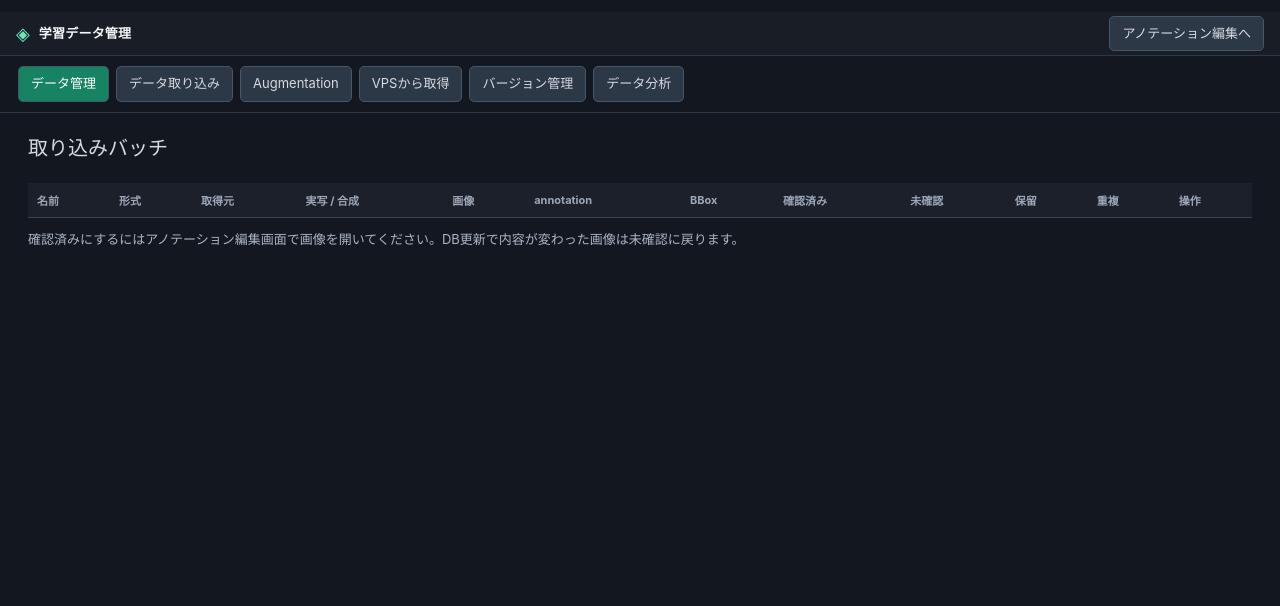
allows a duplicate image but explains an annotation conflict
Click the button "データ取り込み": x=174, y=84 [116,66,233,102]
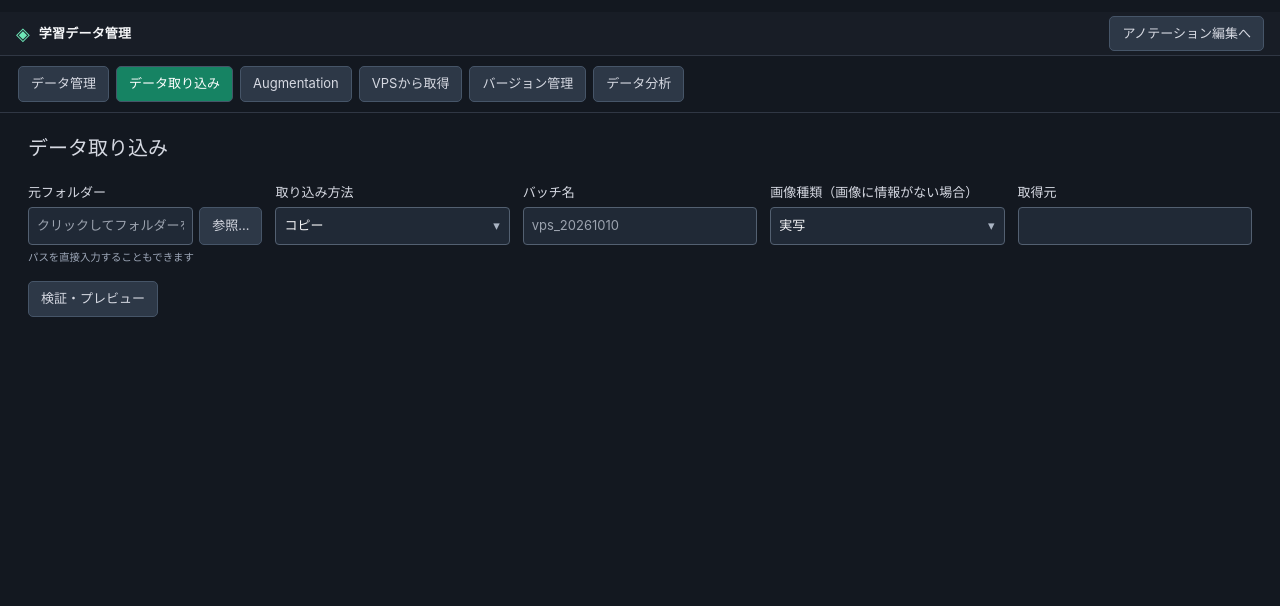
In the field labelled "バッチ名": x=640, y=226 [523,207,757,244], type "new-batch"
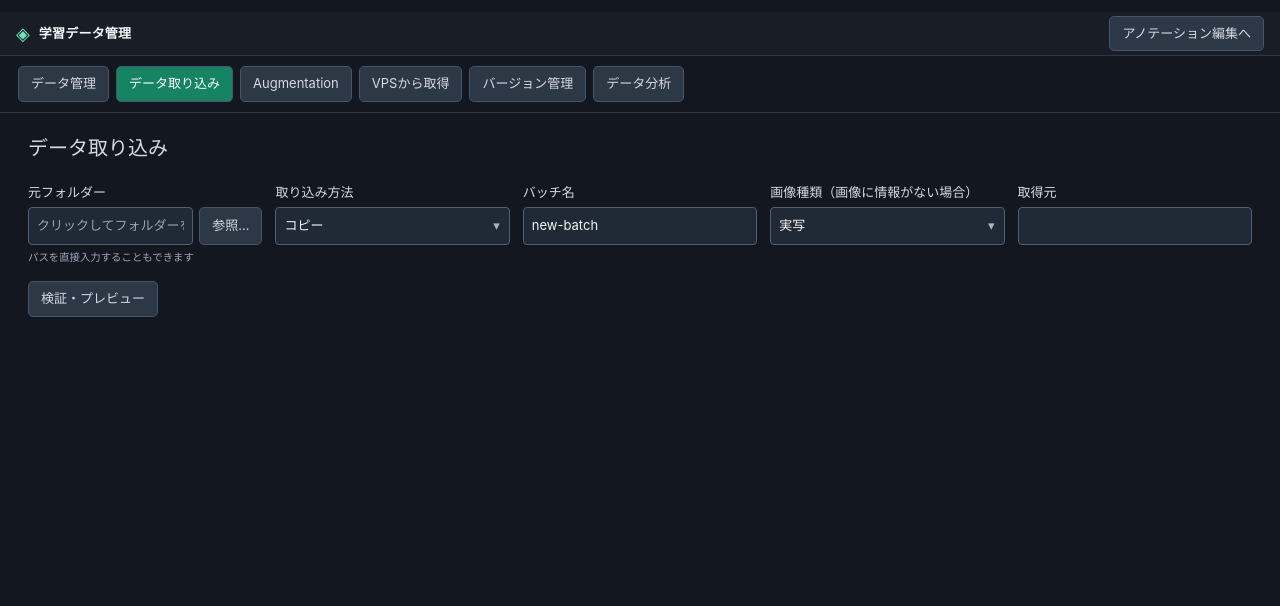
Click the button "検証・プレビュー": x=93, y=299 [28,281,158,317]
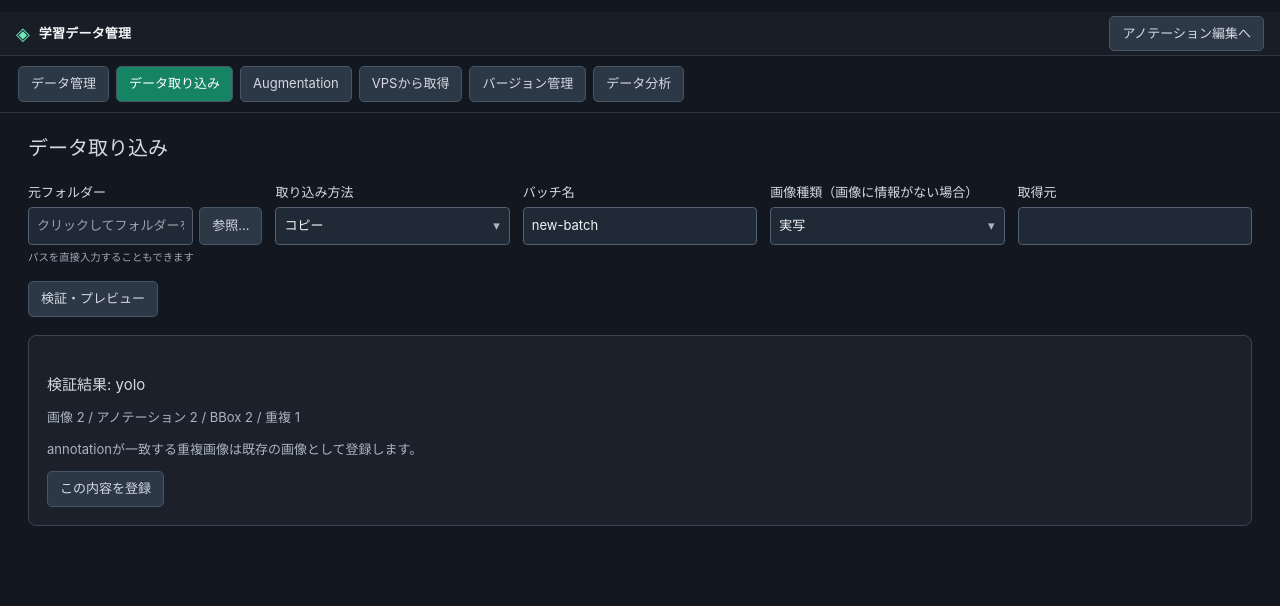
expect the text "annotationが一致する重複画像は既存の画像として登録します。" is shown: met, box [47,441,422,457]
expect the button "この内容を登録" is enabled: met, box [47,471,164,507]
Click the button "検証・プレビュー": x=93, y=299 [28,281,158,317]
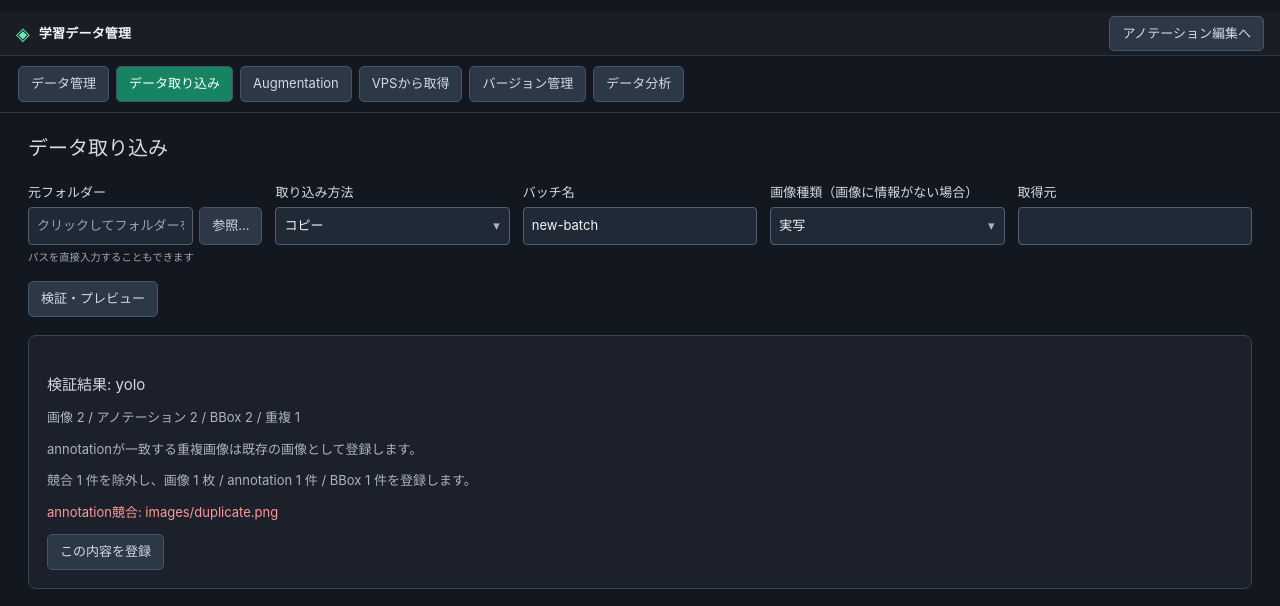
expect the button "この内容を登録" is enabled: met, box [47,534,164,570]
expect the text "annotation競合: images/duplicate.png" is shown: met, box [47,504,278,520]
expect the text "競合 1 件を除外し、画像 1 枚 / annotation 1 件 / BBox 1 件を登録します。" is shown: met, box [47,472,477,488]
